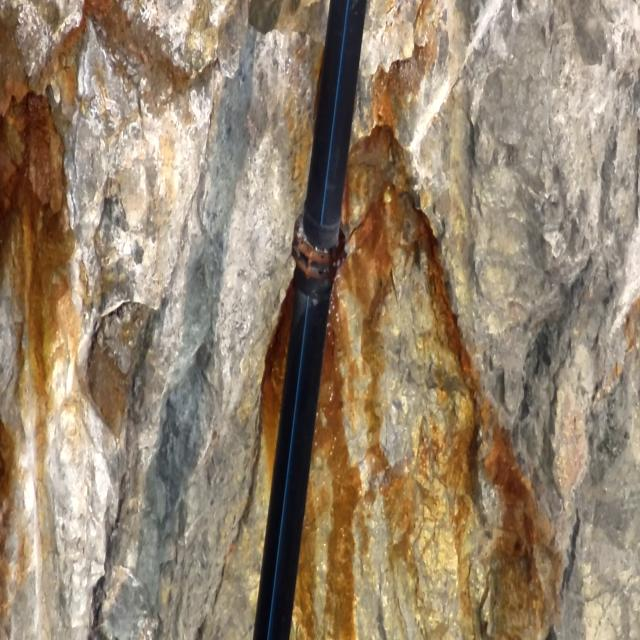leak: (322, 261, 356, 435)
